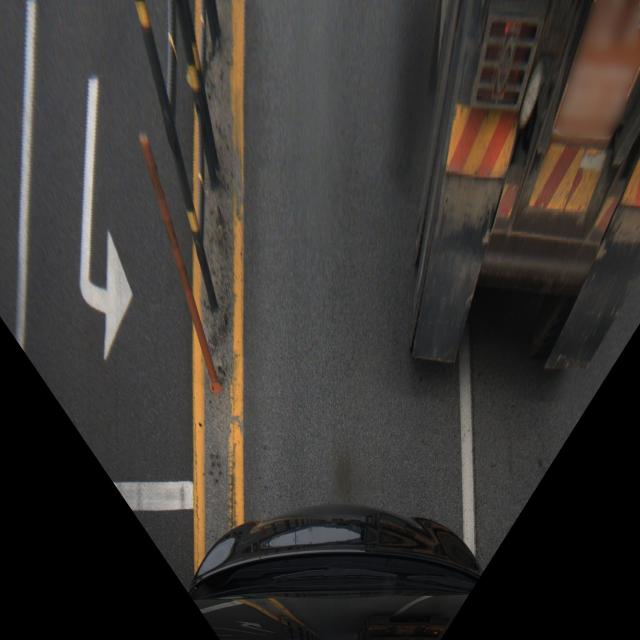left: (423, 218, 620, 605)
